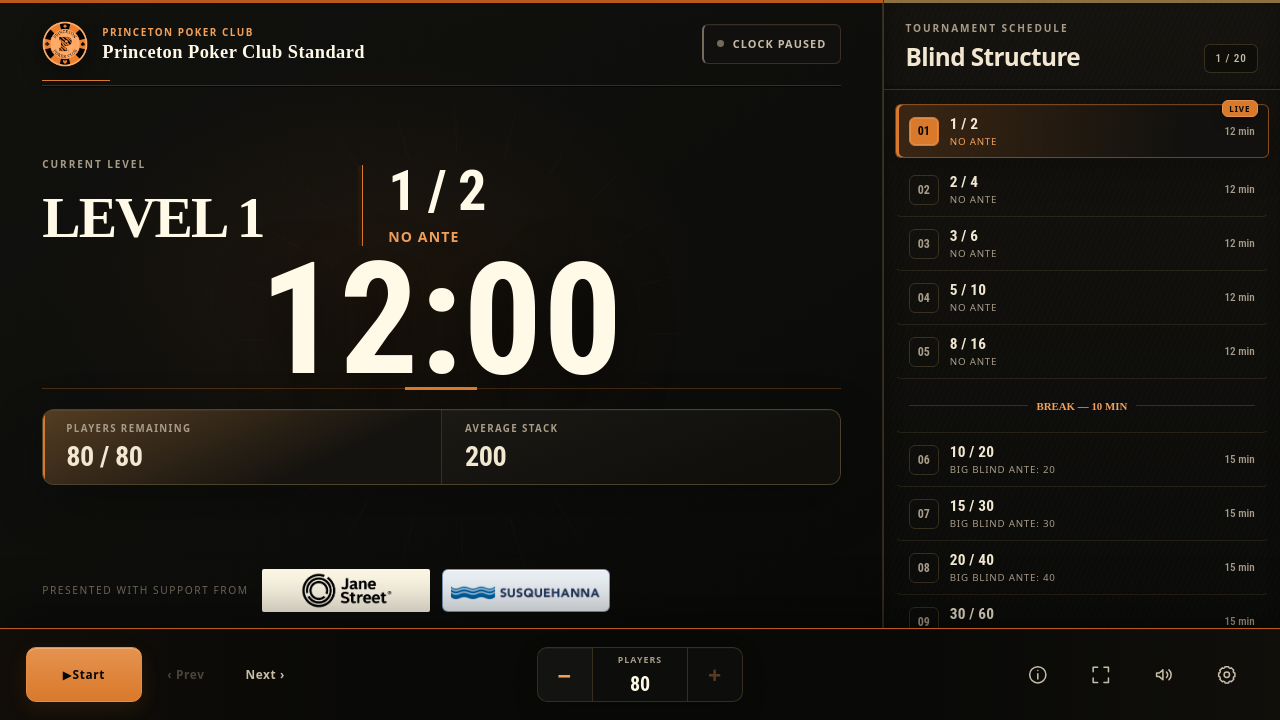
Test: TournamentDisplay › announces a break procedure by updating the status node mounted during poker levels
Click the button with aria-label "Break, 10 min" at (1082, 406), box [896,380,1268,432]
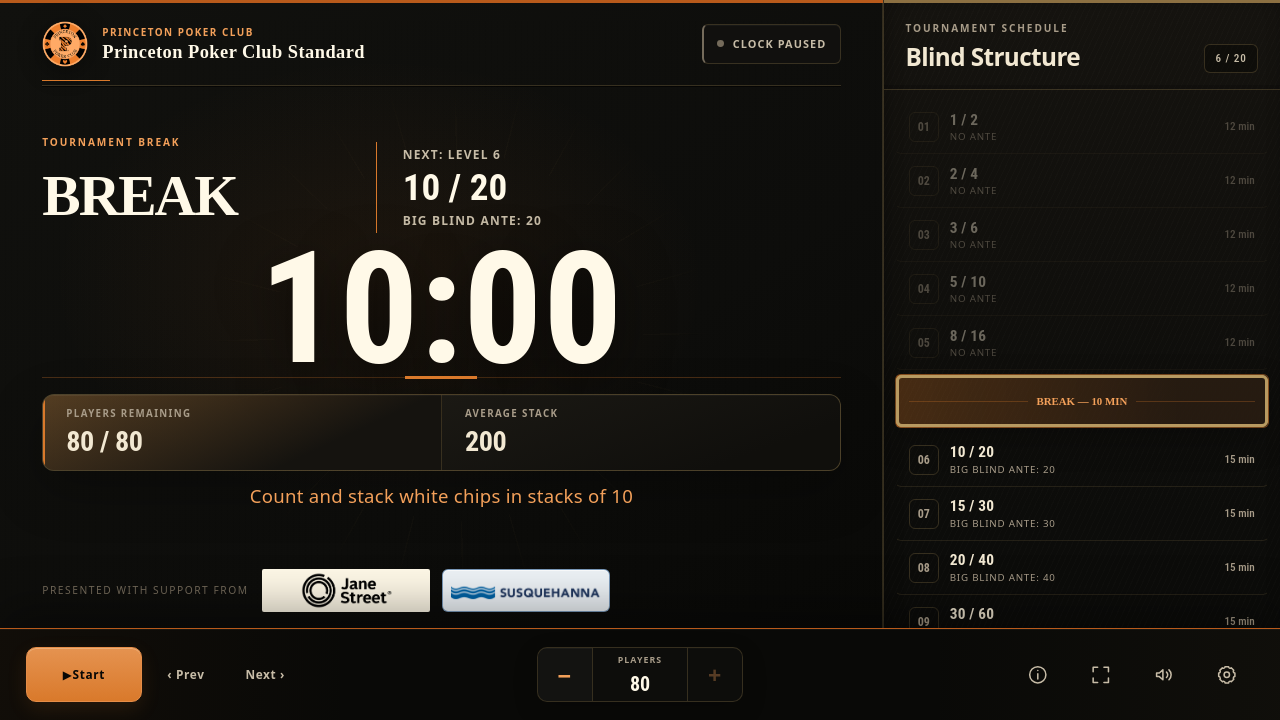
Expected: the text "Count and stack white chips in stacks of 10" does not show "Break procedure", [250,483,633,508]
Result: the text "Count and stack white chips in stacks of 10" is shown at [250,483,633,508]
